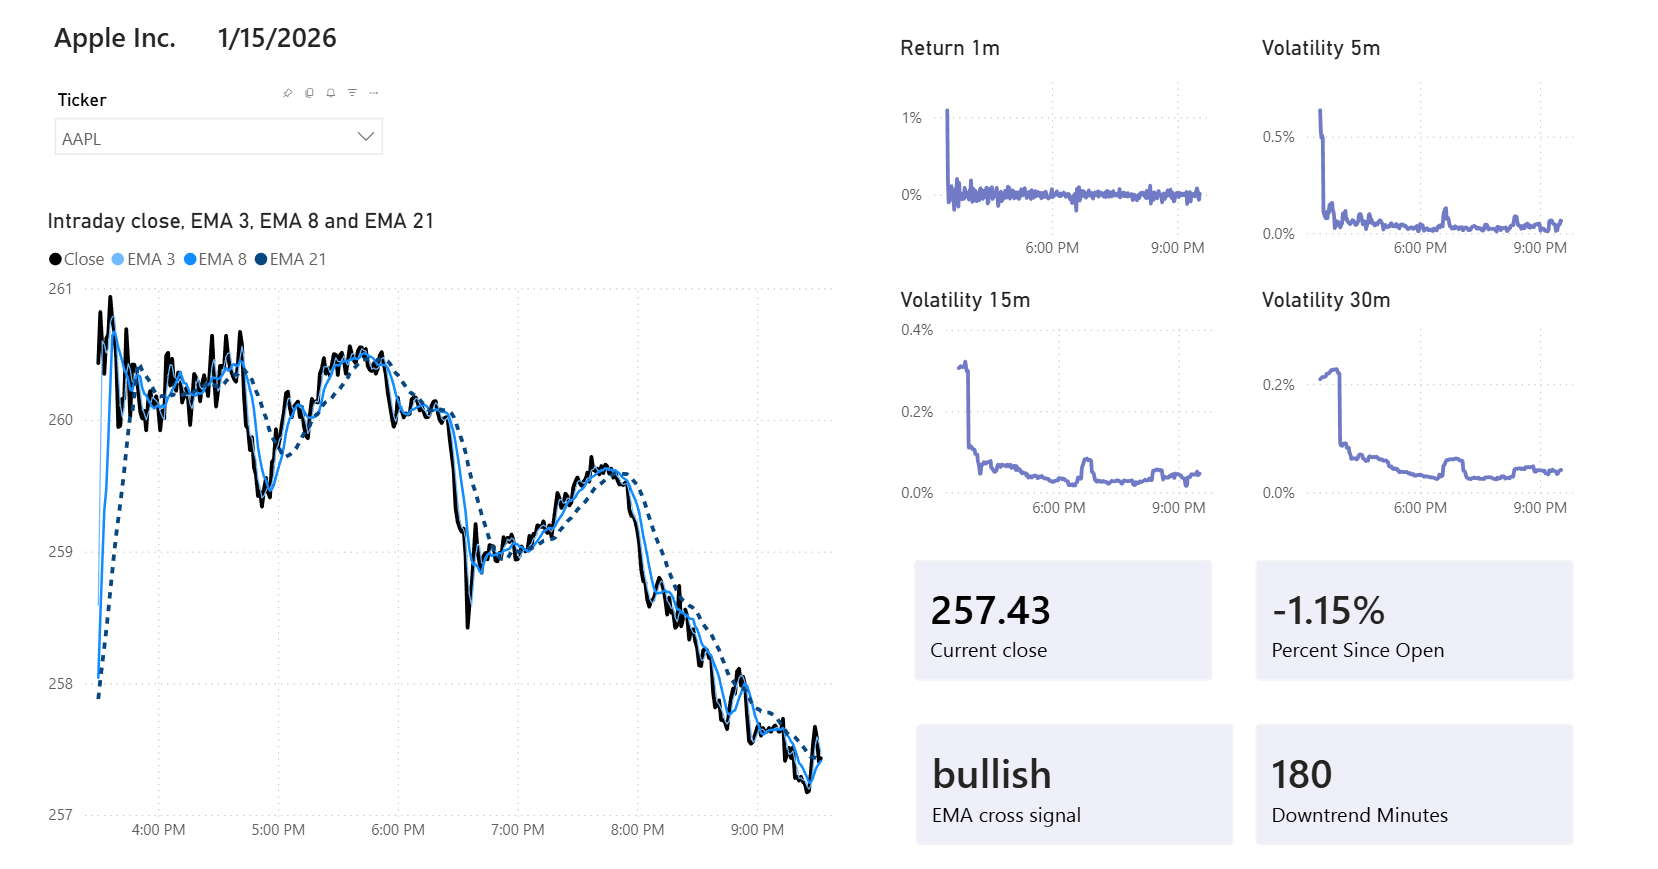

The page's visual inventory and layout, read from the dashboard file:
{"tool":"powerbi","page":{"name":"Intraday","canvas":[1280,720],"ordinal":1},"visuals":[{"type":"cardVisual","title":"Return Daily Latest","fields":{"Data":["gold_stock_minutes_indicators.Percent Since Open"]},"box":[962.5,435,286.2,130],"z":0},{"type":"slicer","title":"Ticker Filter","fields":{"Values":["dim_ticker.ticker"]},"box":[18.8,75,280,88.8],"z":1000},{"type":"cardVisual","fields":{"Data":["dim_ticker.Selected Ticker Name"]},"box":[0,0,290,75],"z":2000},{"type":"lineChart","title":"Intraday close, EMA 3, EMA 8 and EMA 21 ","fields":{"Category":["gold_stock_minutes_indicators.timestamp"],"Y":["Avg(gold_stock_minutes_indicators.close)","Avg(gold_stock_minutes_indicators.ema_3)","Avg(gold_stock_minutes_indicators.ema_8)","Avg(gold_stock_minutes_indicators.ema_21)"]},"box":[18.8,173.8,643.8,510],"z":3000},{"type":"lineChart","title":"Volatility 30m","fields":{"Category":["gold_stock_minutes_indicators.timestamp"],"Y":["Sum(gold_stock_minutes_indicators.volatility_30m)"]},"box":[980,236.2,268.8,192.5],"z":4000},{"type":"lineChart","title":"Volatility 15m","fields":{"Category":["gold_stock_minutes_indicators.timestamp"],"Y":["Sum(gold_stock_minutes_indicators.volatility_15m)"]},"box":[693.8,236.2,268.8,192.5],"z":5000},{"type":"lineChart","title":"Volatility 5m","fields":{"Category":["gold_stock_minutes_indicators.timestamp"],"Y":["Avg(gold_stock_minutes_indicators.volatility_5m)"]},"box":[980,37.5,268.8,186.2],"z":6000},{"type":"lineChart","title":"Return 1m","fields":{"Category":["gold_stock_minutes_indicators.timestamp"],"Y":["Avg(gold_stock_minutes_indicators.return_1m)"]},"box":[693.8,37.5,268.8,186.2],"z":7000},{"type":"cardVisual","title":"Close latest","fields":{"Data":["Sum(gold_stock_minutes_indicators.close)"]},"box":[692.5,435,270,130],"z":8000},{"type":"cardVisual","title":"Return Daily Latest","fields":{"Data":["Min(gold_stock_minutes_indicators.ema_cross_signal)"]},"box":[693.8,565,286.2,130],"z":9000},{"type":"cardVisual","title":"Return Daily Latest","fields":{"Data":["gold_stock_minutes_indicators.Downtrend Minutes"]},"box":[962.5,565,286.2,130],"z":10000},{"type":"cardVisual","fields":{"Data":["Min(gold_stock_minutes_indicators.date)"]},"box":[130,0,211.2,75],"z":11000}]}

Visuals, with their boxes on the page's 1280x720 design canvas (x1, y1, x2, y2). These are canvas units, not pixel positions in the 1658x869 screenshot, which may show the page scaled, cropped or inside an application window:
"Return Daily Latest" cardVisual: region(962, 435, 1249, 565)
"Ticker Filter" slicer: region(19, 75, 299, 164)
cardVisual - dim_ticker.Selected Ticker Name: region(0, 0, 290, 75)
"Intraday close, EMA 3, EMA 8 and EMA 21 " lineChart: region(19, 174, 663, 684)
"Volatility 30m" lineChart: region(980, 236, 1249, 429)
"Volatility 15m" lineChart: region(694, 236, 963, 429)
"Volatility 5m" lineChart: region(980, 38, 1249, 224)
"Return 1m" lineChart: region(694, 38, 963, 224)
"Close latest" cardVisual: region(692, 435, 962, 565)
"Return Daily Latest" cardVisual: region(694, 565, 980, 695)
"Return Daily Latest" cardVisual: region(962, 565, 1249, 695)
cardVisual - Min(gold_stock_minutes_indicators.date): region(130, 0, 341, 75)
